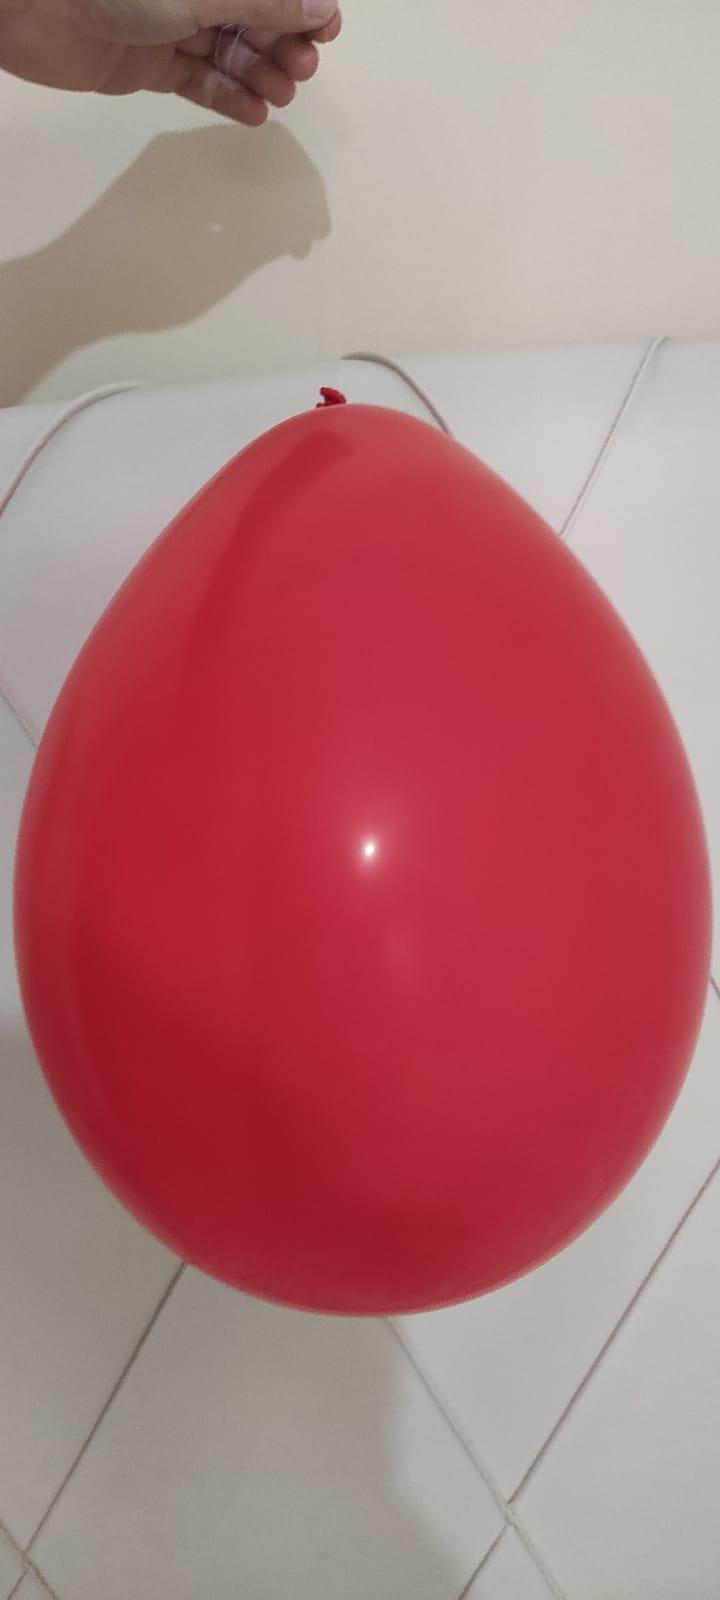red: (7, 374, 720, 1337)
